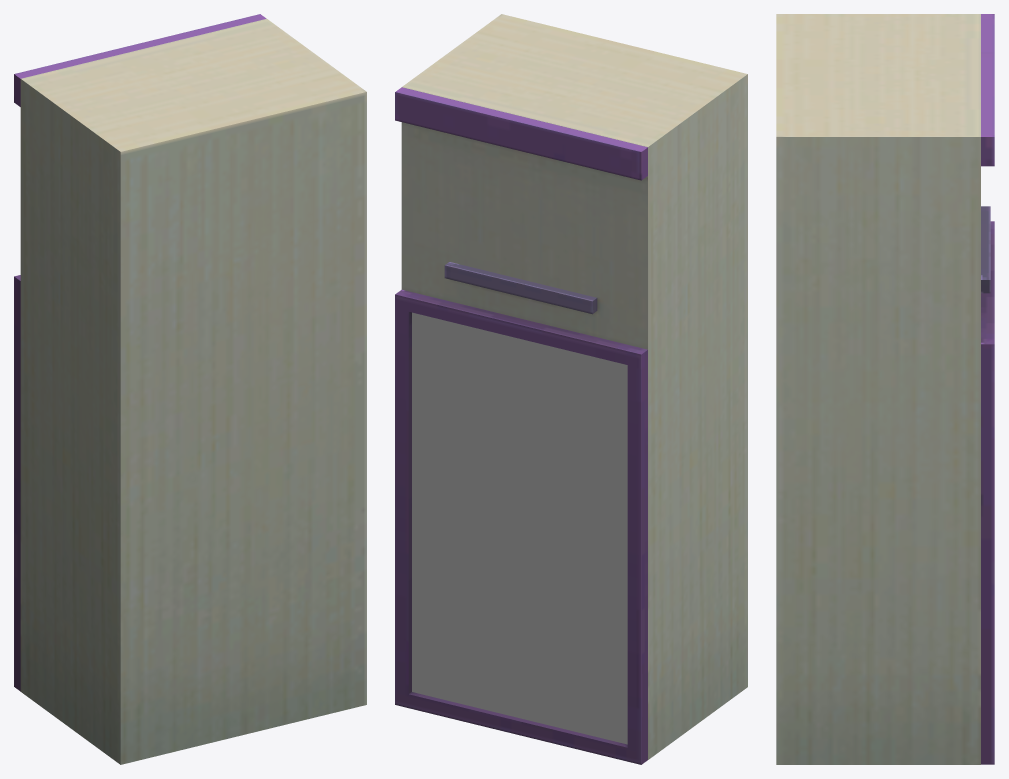
The model's file is furni_0200518_03.FBX.
3 renders of one model, left to right at view 1: azimuth 30°, elevation 25°; view 2: azimuth 150°, elevation 25°; view 3: azimuth 270°, elevation 25°, orthographic. The views are drawn at different scales.
Visible parts, largest first — view 1: furni_0200518_03; view 2: furni_0200518_03; view 3: furni_0200518_03.
Boxes of the visible parts, bbox=[...] form: furni_0200518_03: bbox=[14, 14, 366, 764]; furni_0200518_03: bbox=[395, 14, 747, 764]; furni_0200518_03: bbox=[776, 14, 994, 764].
Size of the model in its own units: 80.03 by 190 by 59.95.
